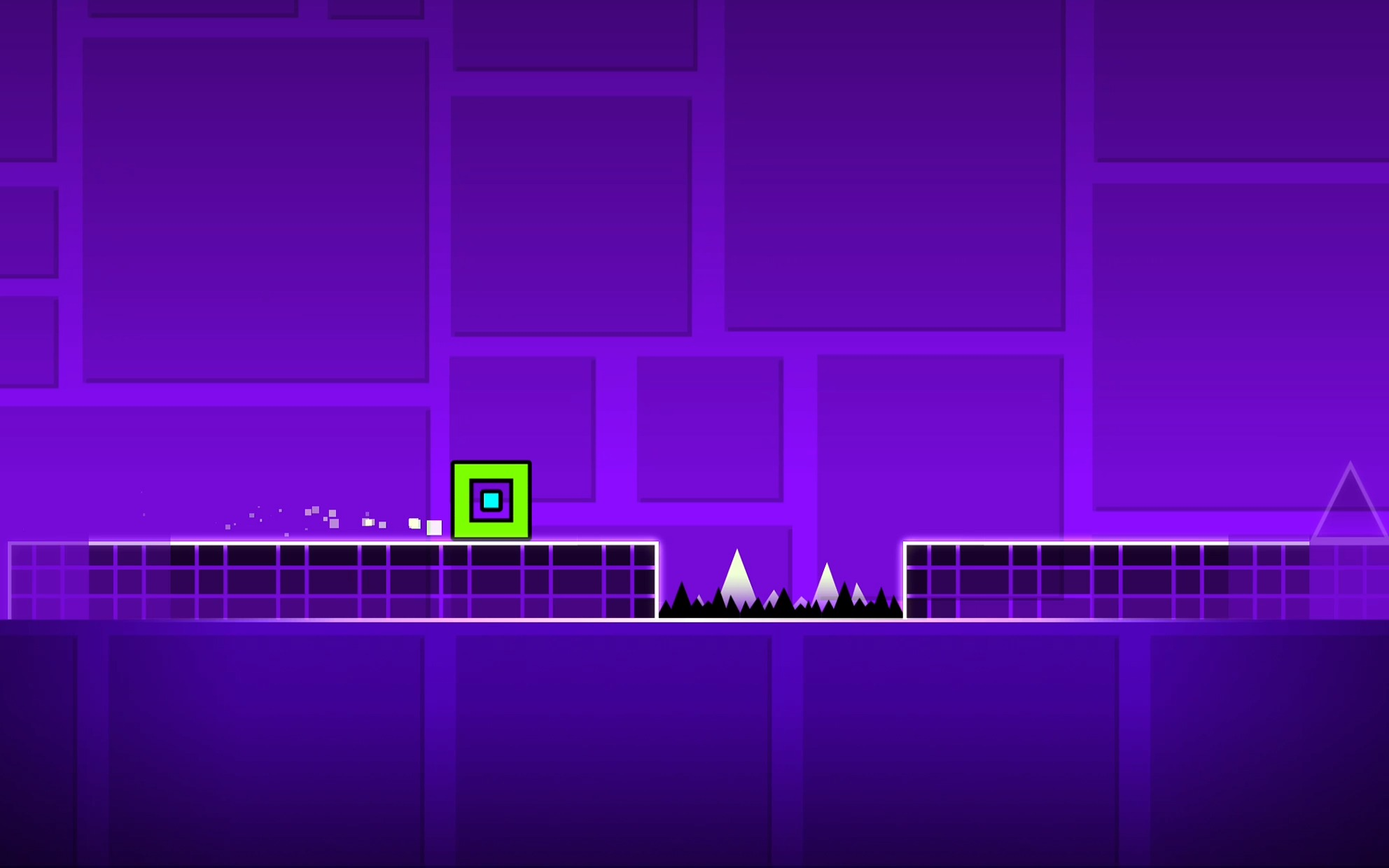Block2: (10, 543, 656, 622), (907, 546, 1389, 623)
Player: (449, 461, 530, 540)
Spike: (1313, 464, 1388, 540), (1314, 465, 1388, 538)
Spike3: (659, 581, 904, 622)
